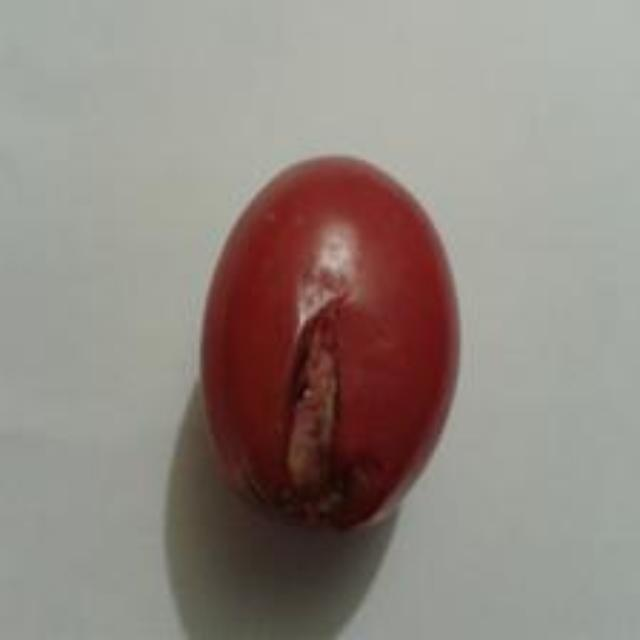defect: (198, 152, 468, 542)
